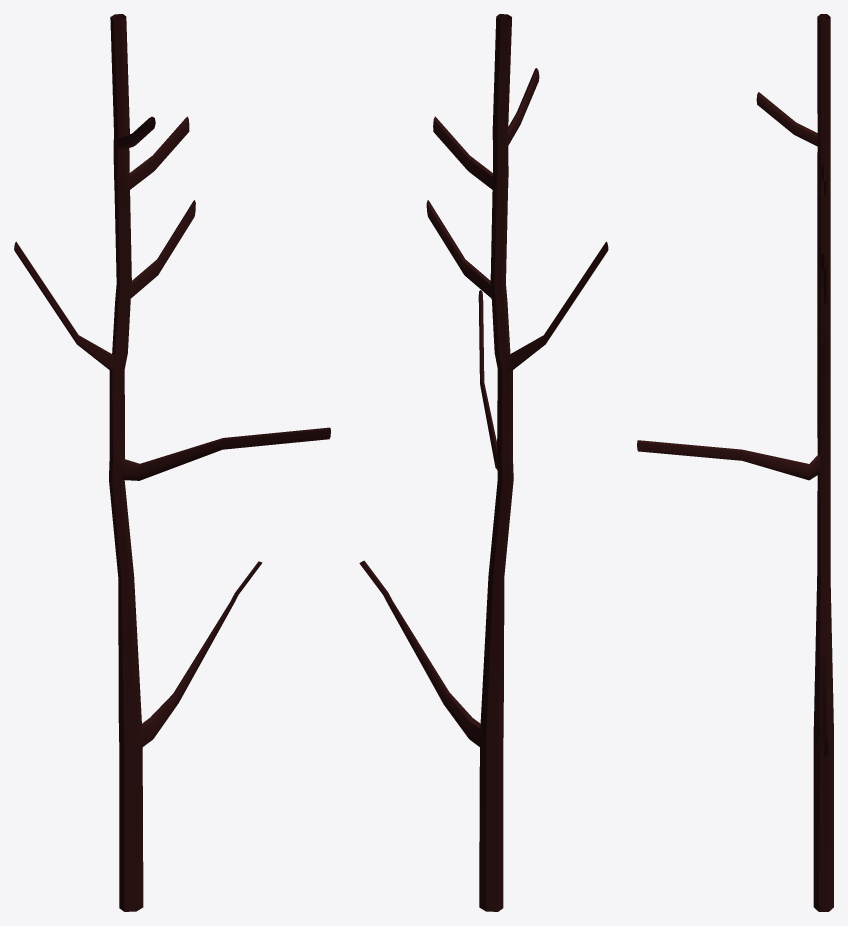
Rendered from Tronco_noHojas.obj.
The picture shows the model from 3 angles, left to right: view 1: azimuth 30°, elevation 25°; view 2: azimuth 150°, elevation 25°; view 3: azimuth 270°, elevation 25°; orthographic projection.
Parts seen in each view (by area): view 1: Tronco_noHojas; view 2: Tronco_noHojas; view 3: Tronco_noHojas.
Boxes of the visible parts, box(x1,y1,x2,y2) form: Tronco_noHojas: box(14, 14, 330, 911); Tronco_noHojas: box(359, 14, 608, 911); Tronco_noHojas: box(637, 14, 833, 911).
Bounding box in the file's own units: 2.42 × 8.33 × 1.68.
